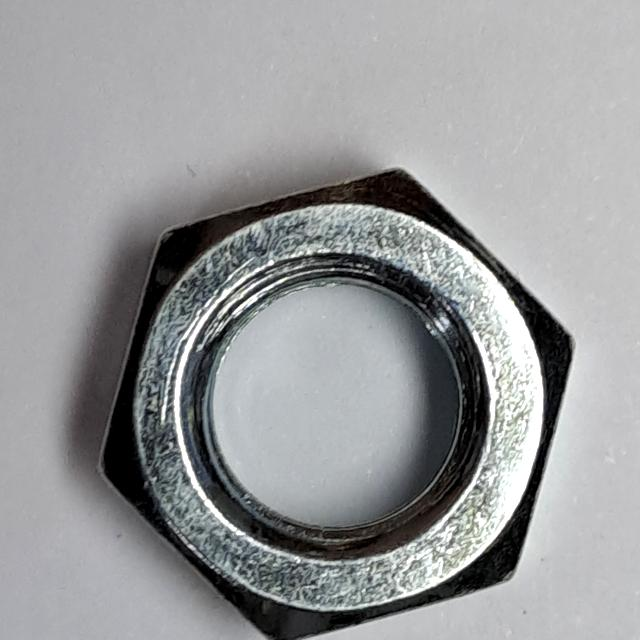Excellent: (83, 143, 581, 640)
